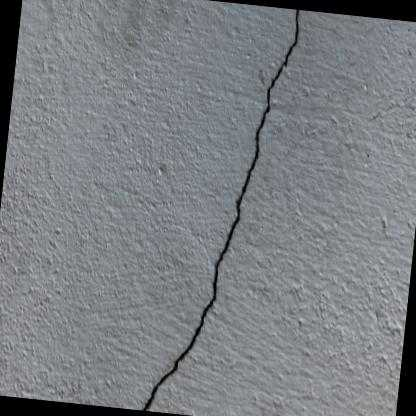crack: (141, 8, 299, 411)
